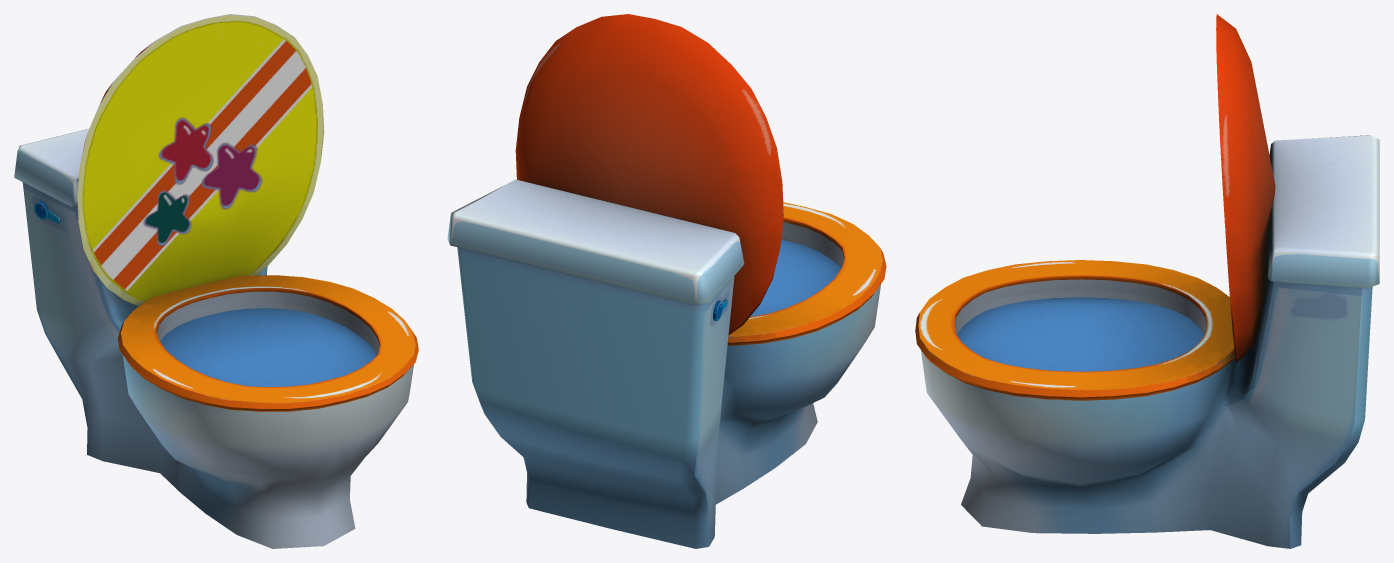
The model's file is Toilet.fbx.
The picture shows the model from 3 angles, left to right: view 1: azimuth 30°, elevation 25°; view 2: azimuth 150°, elevation 25°; view 3: azimuth 270°, elevation 25°; orthographic projection. The views are drawn at different scales.
Visible parts, largest first — view 1: 073; view 2: 073; view 3: 073.
Boxes of the visible parts, bbox=[...] form: 073: bbox=[14, 14, 418, 548]; 073: bbox=[447, 14, 886, 548]; 073: bbox=[915, 14, 1379, 548].
Bounding box in the file's own units: 35.85 × 59.75 × 52.9.
Materials: 1 (1 with a texture image).
